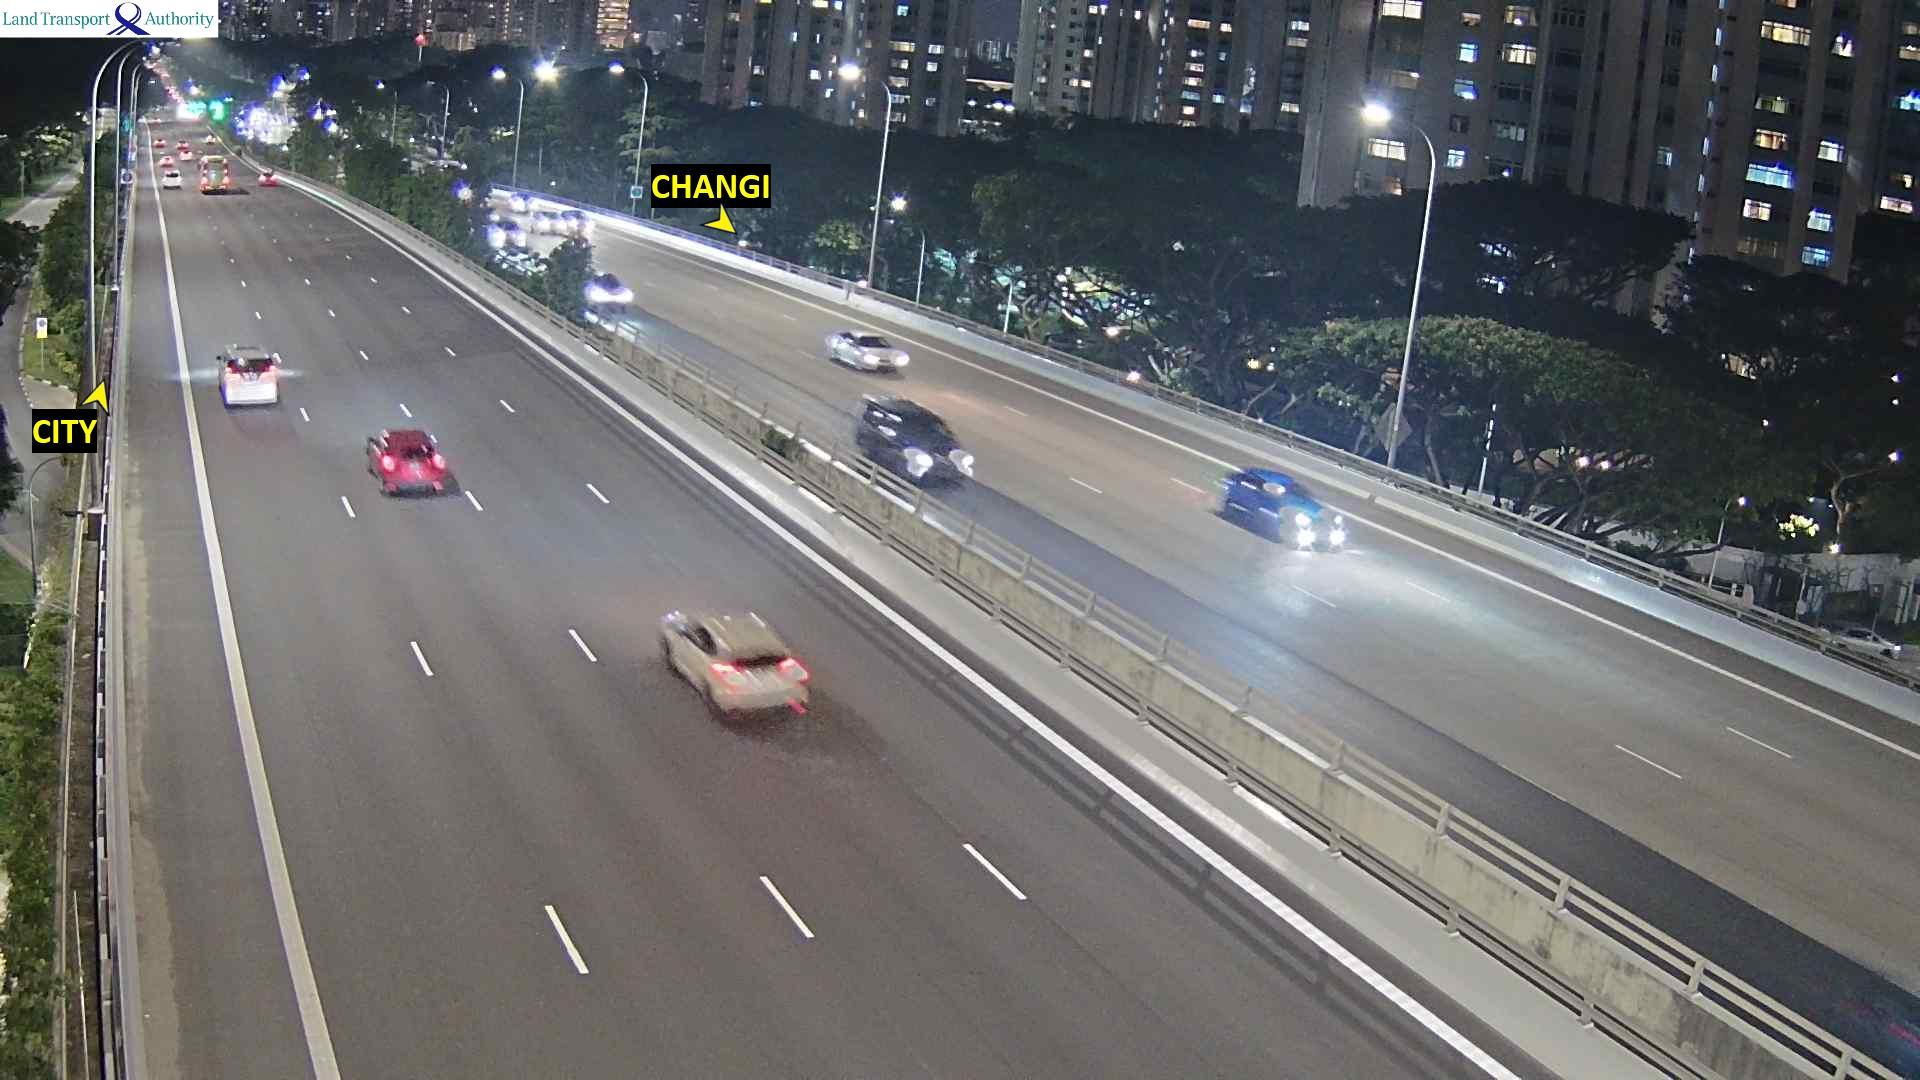incoming: (891, 413, 984, 482), (1271, 481, 1355, 557), (848, 331, 914, 374), (588, 268, 641, 310), (489, 218, 527, 244), (568, 210, 601, 236), (538, 210, 566, 238), (509, 188, 538, 215)
